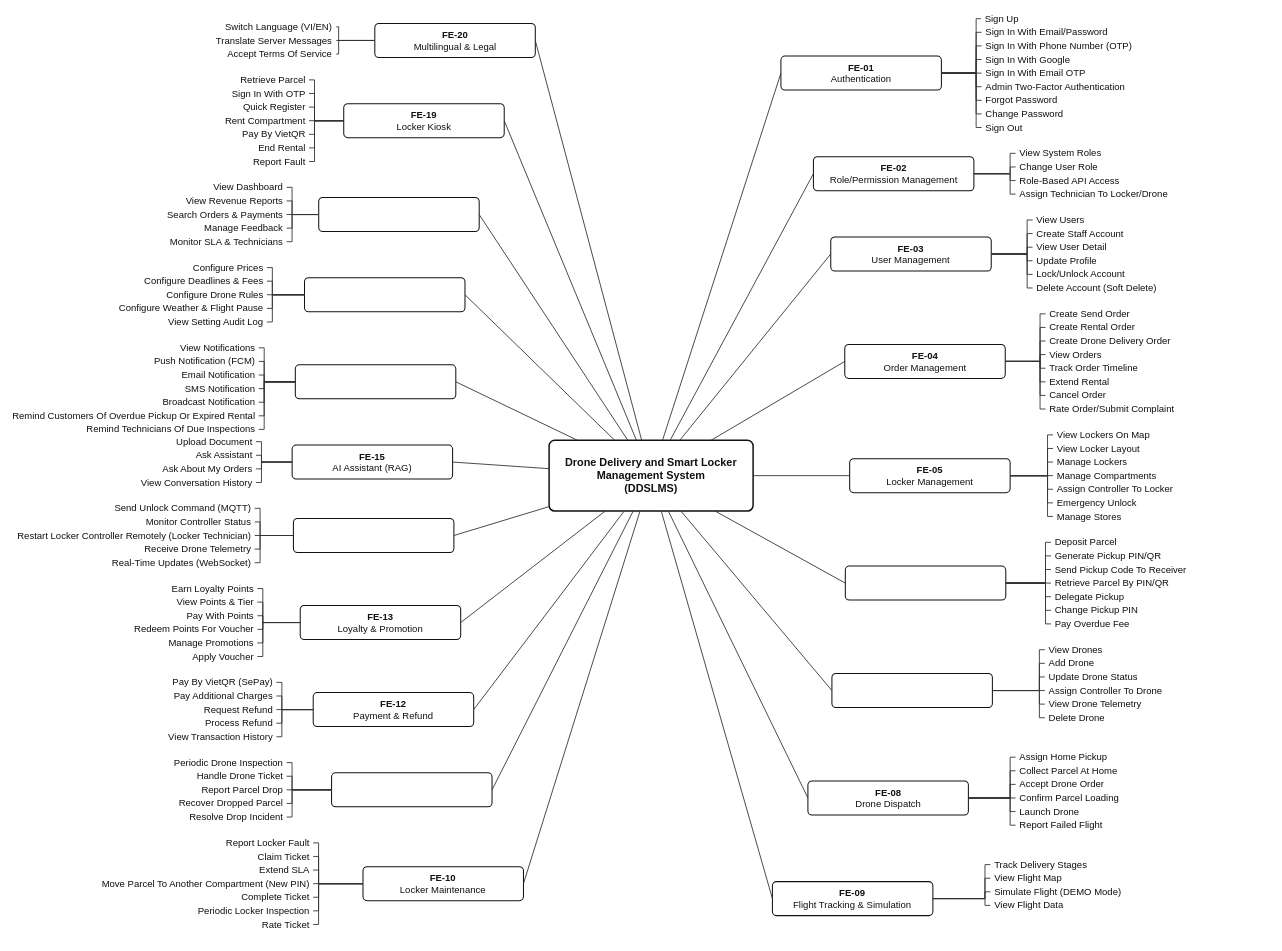
Image size: 1282x951. Some labels were removed from this diagram. The centre of each missing label's shape, as x and y in pixels:
"FE-06 Parcel Deposit & Retrieval" belongs at (x=925, y=582).
"FE-07 Drone Fleet Management" belongs at (x=912, y=690).
"FE-11 Drone Maintenance & Incidents" belongs at (x=411, y=789).
"FE-14 Real-Time Monitoring & IoT" belongs at (x=373, y=535).
"FE-16 Notification" belongs at (x=375, y=381).
"FE-17 Business Configuration" belongs at (x=384, y=294).
"FE-18 Dashboard & Reports" belongs at (x=398, y=214).
